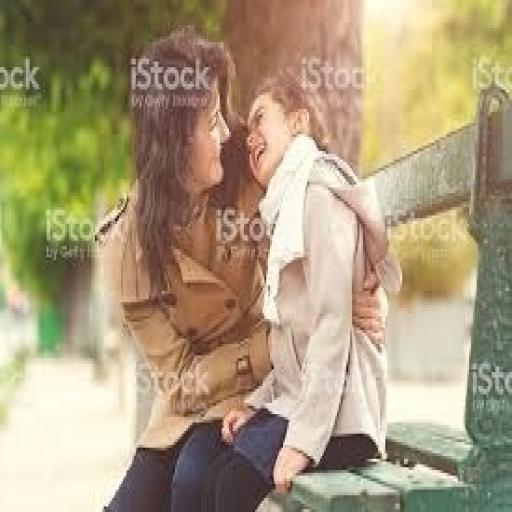hugging: (93, 25, 393, 509)
